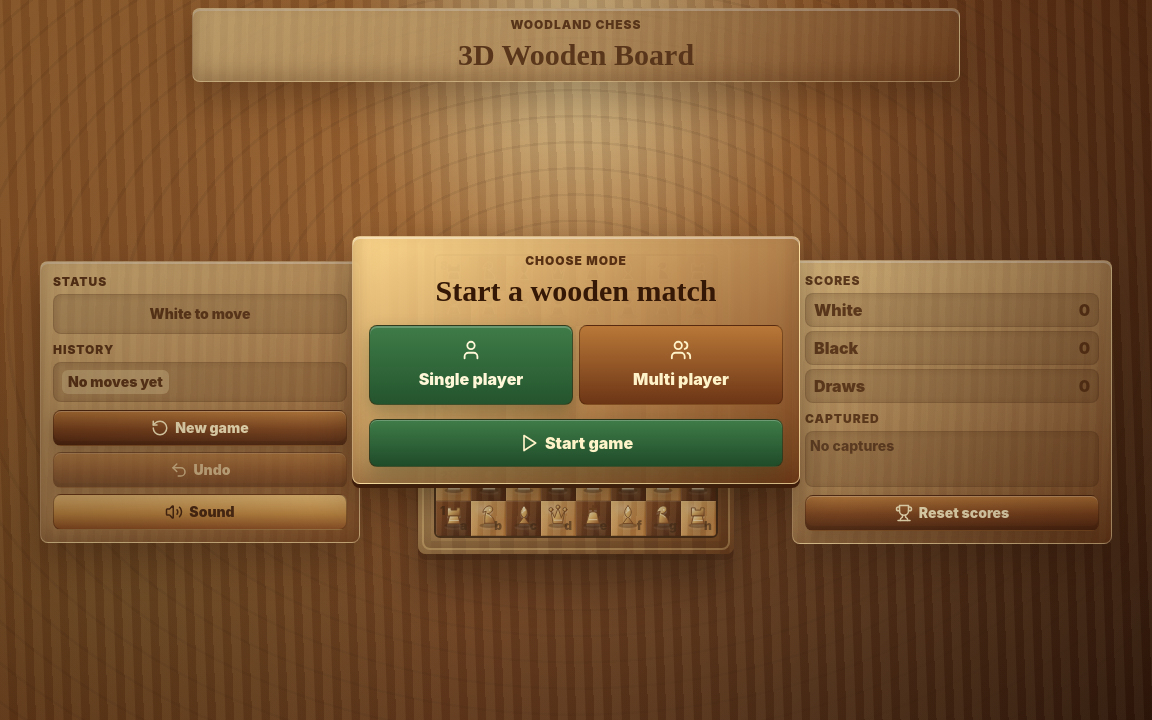
it: App — board interaction › New Game button is present and clickable
Step 1. Click the button "Multi player" → (681, 365), box [579,325,783,405]
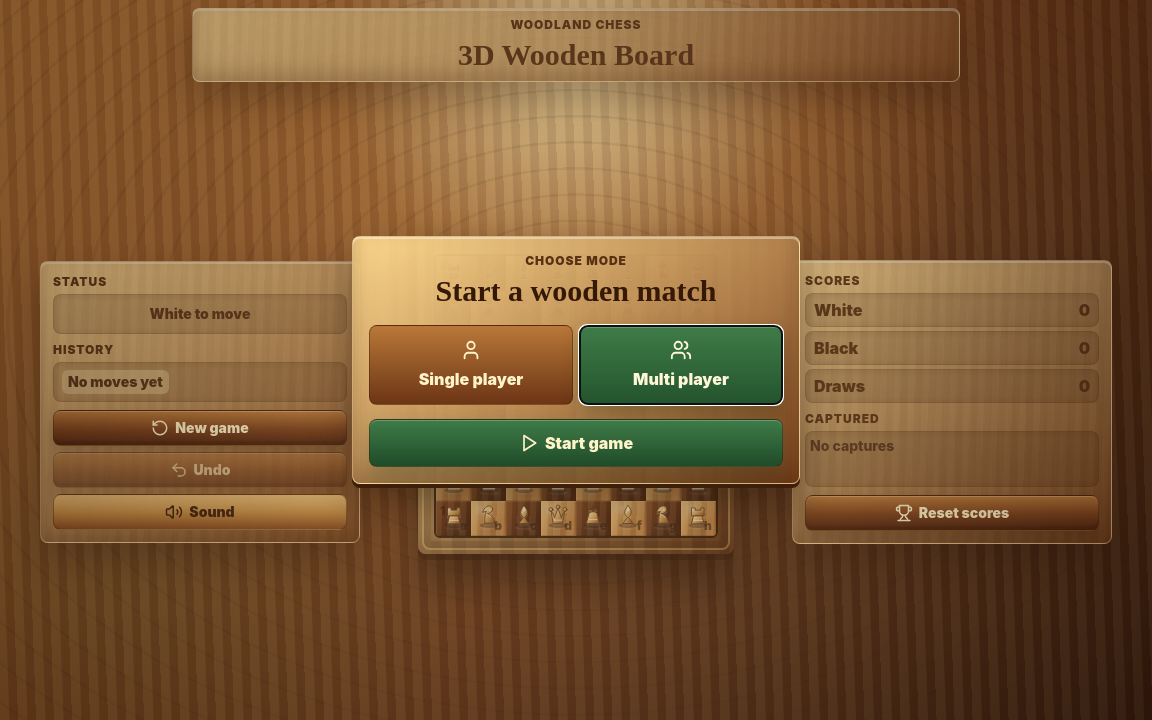
Step 2. Click the button "Start game" → (576, 443), box [369,419,783,467]
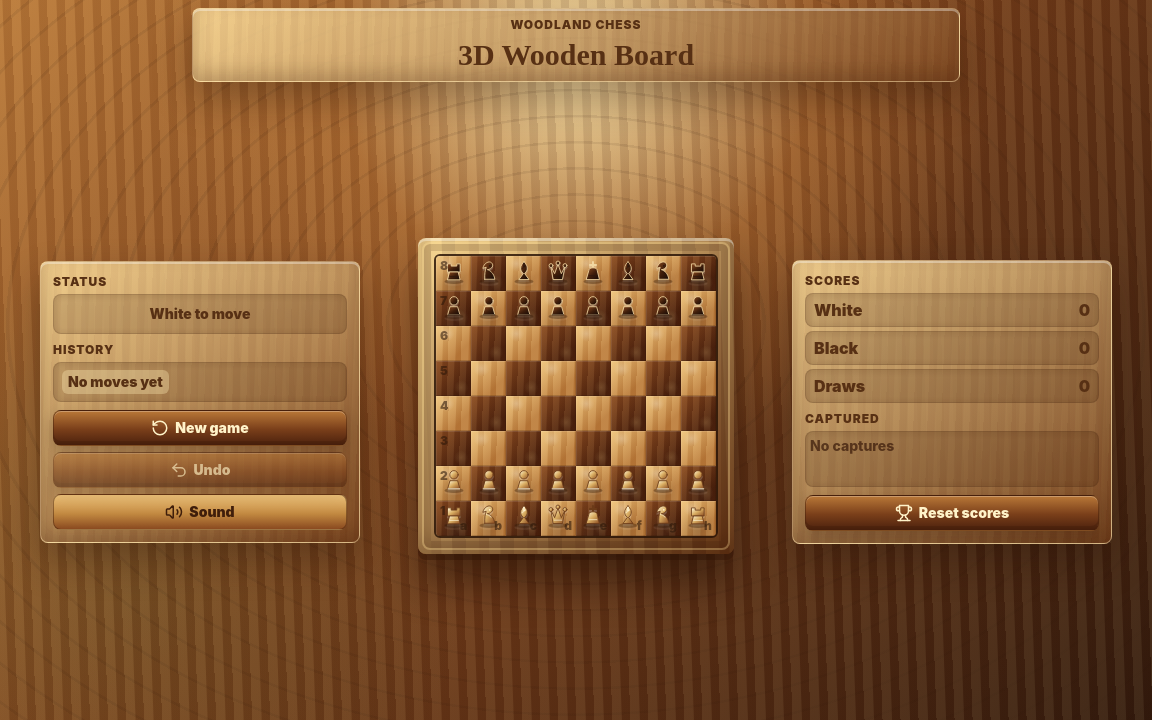
Step 3. Click the button "New game" → (200, 428), box [53,410,347,446]
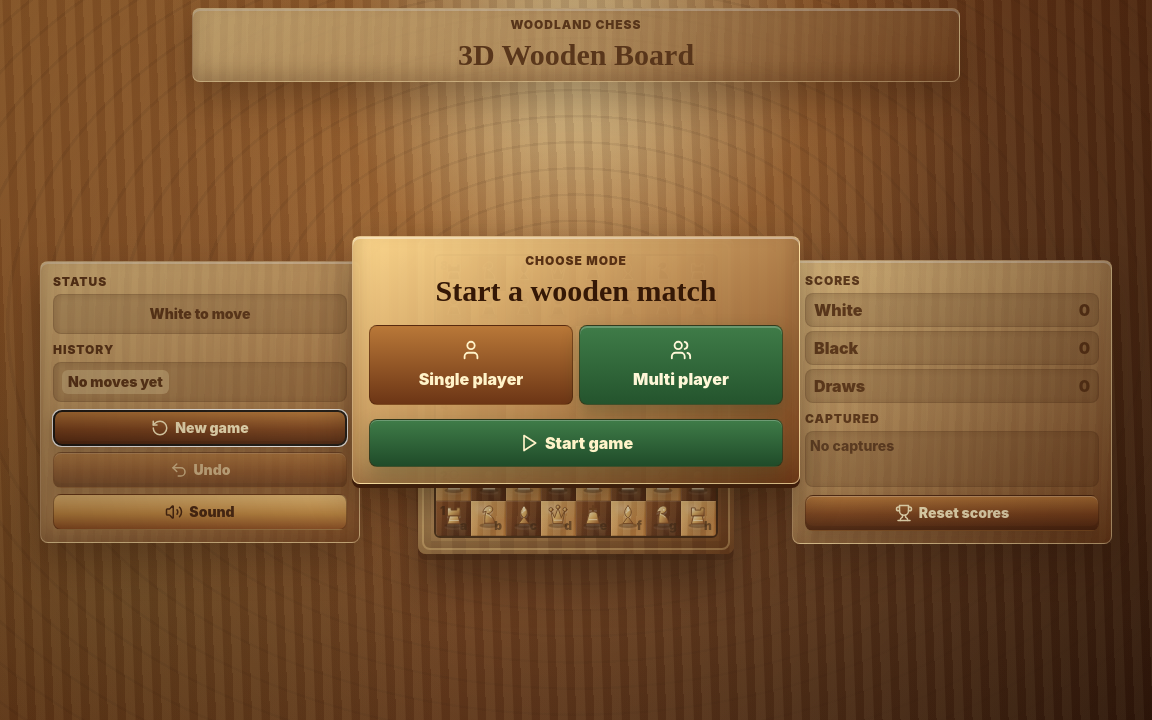
Expected: the text "No moves yet" is shown, [62,370,169,394]
Now the dialog named "start a new game" is shown
